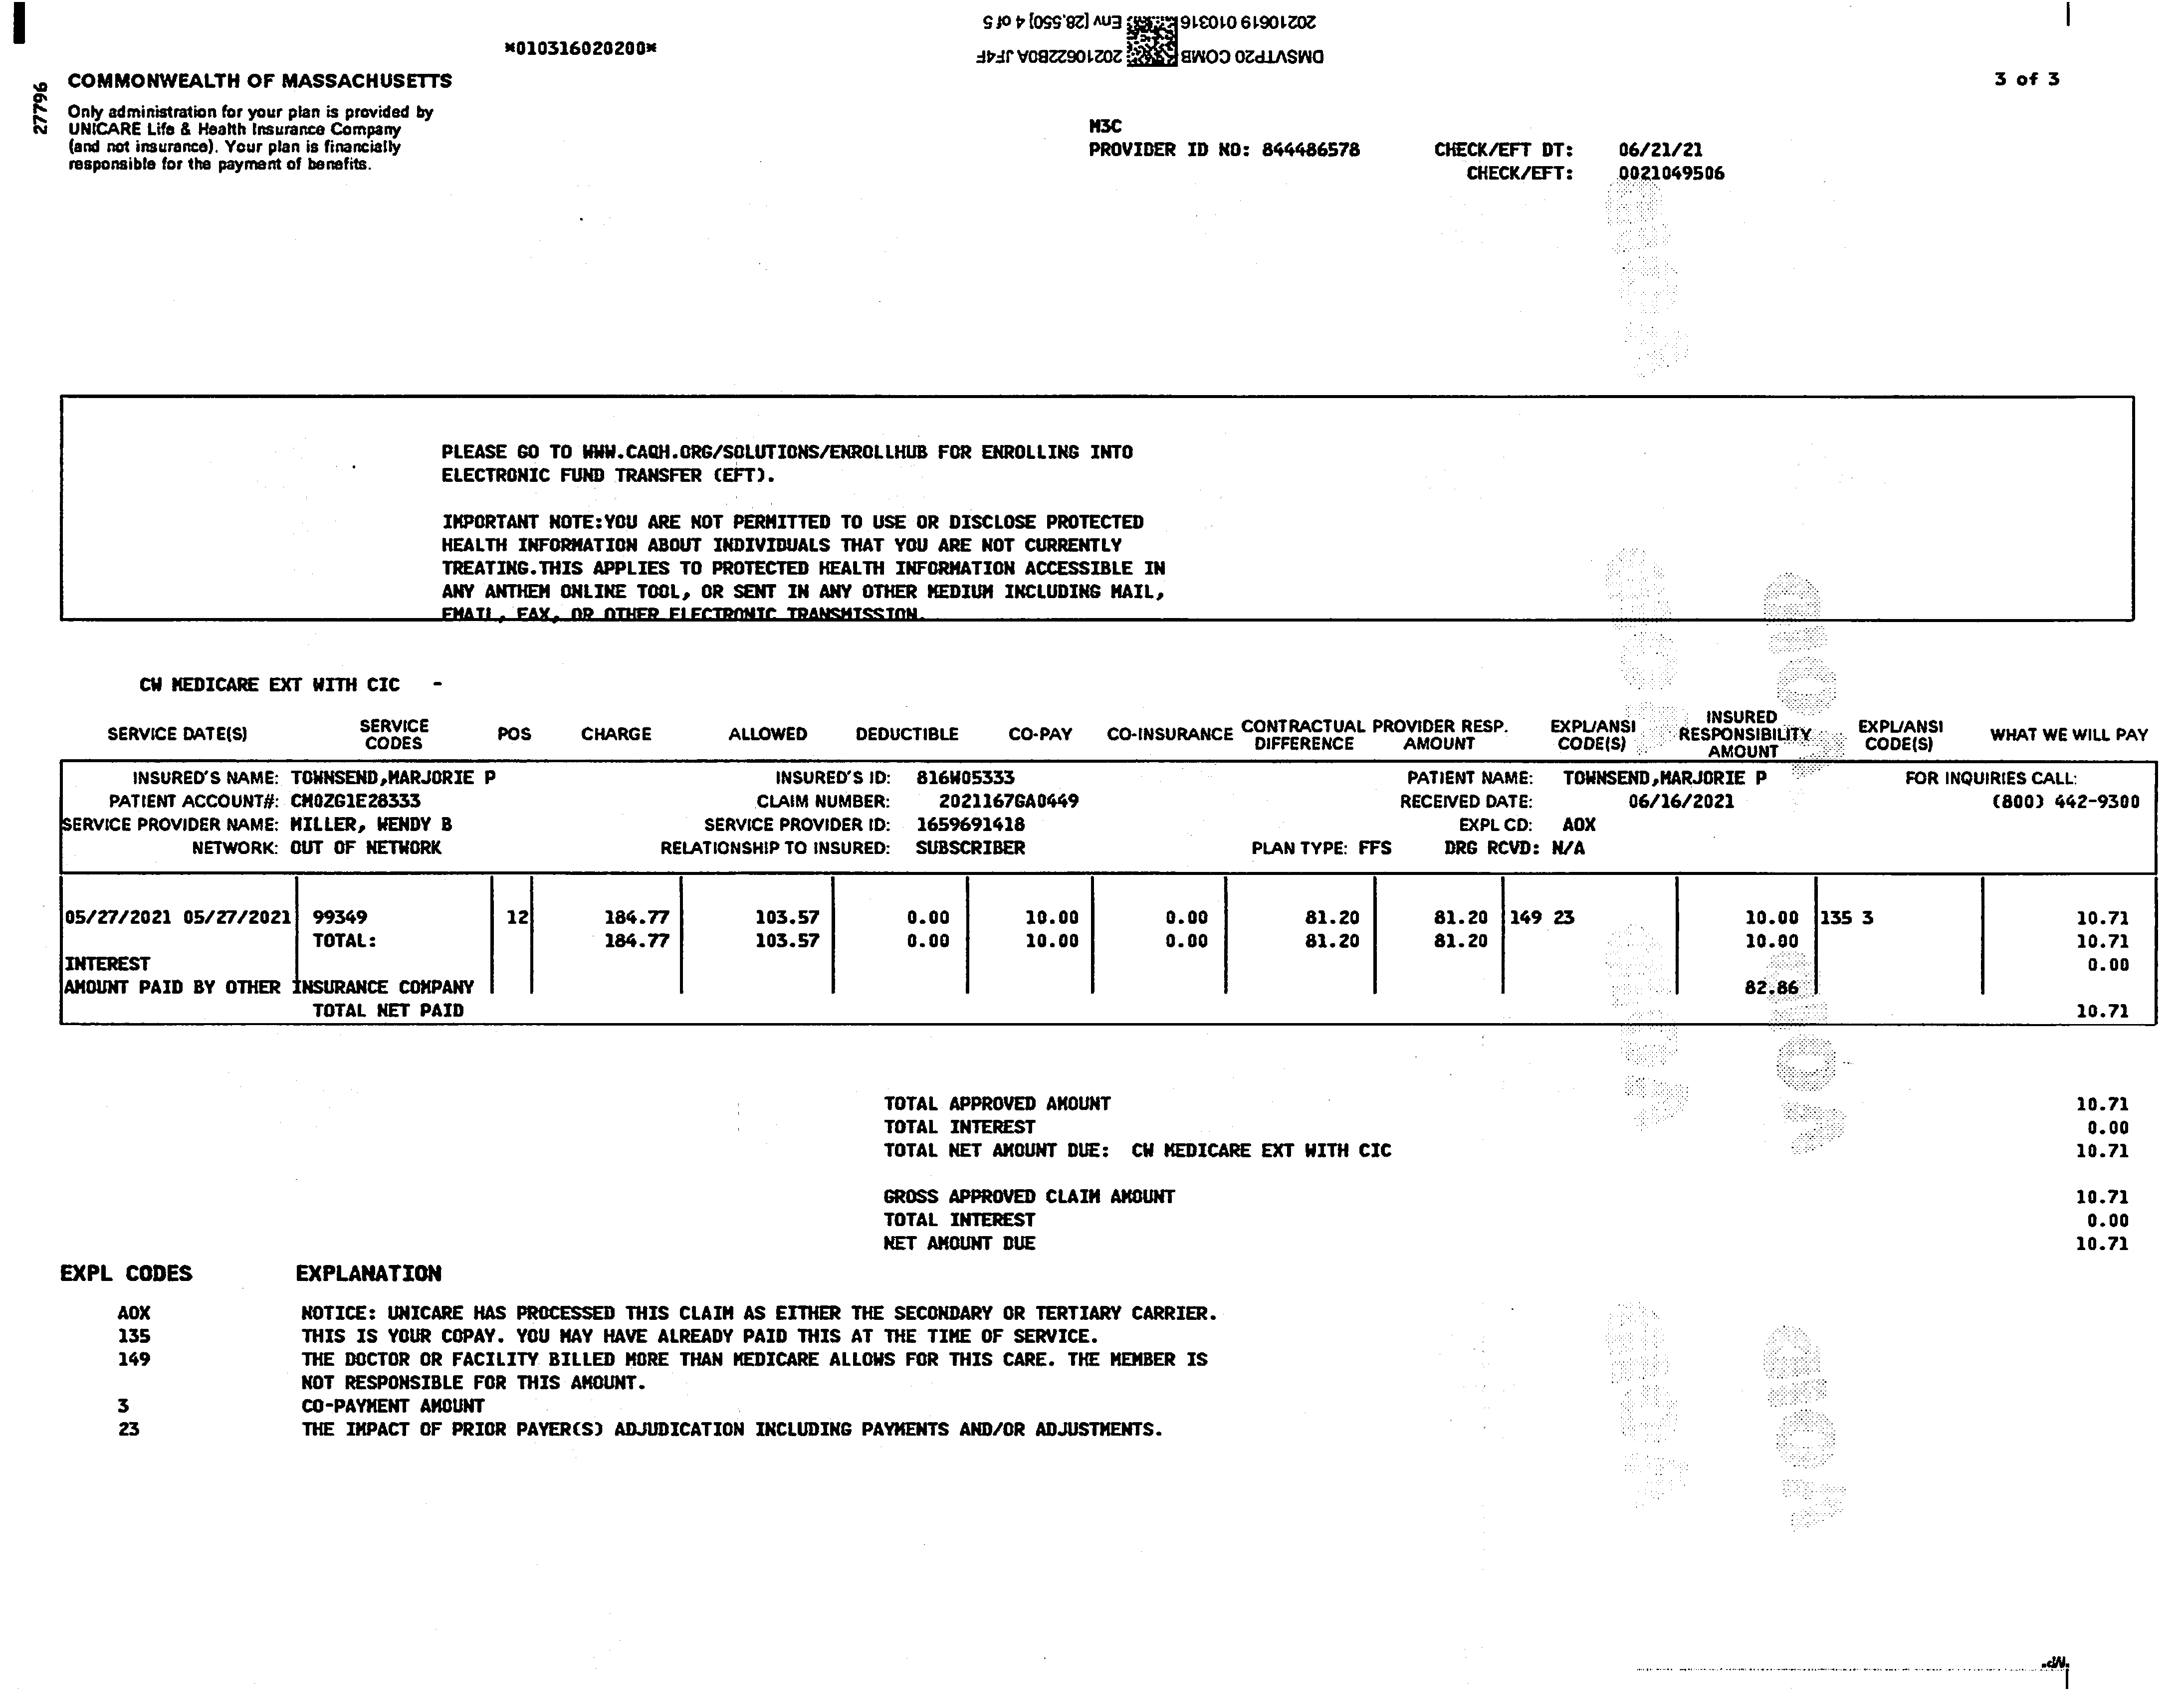data: (64, 764, 523, 867), (1422, 108, 1790, 218), (652, 771, 1097, 861), (1390, 768, 1796, 863), (1065, 101, 1388, 211)
table: (35, 714, 2168, 1039)
